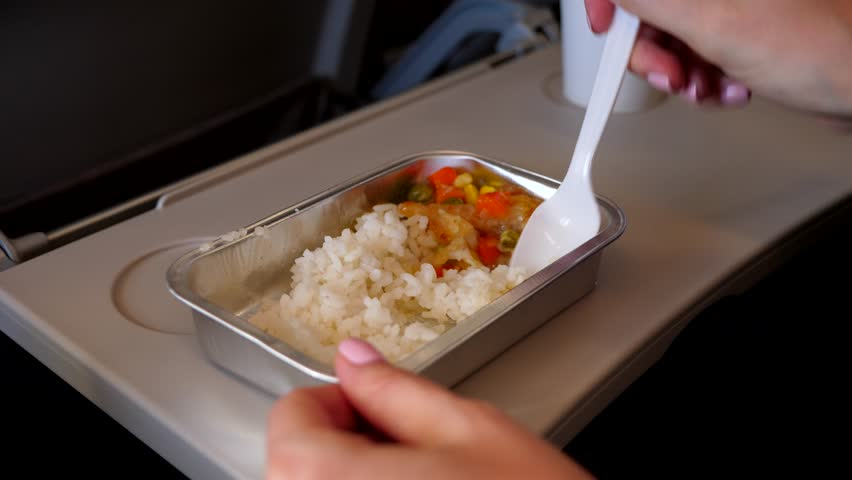plain rice: (291, 249, 432, 345)
